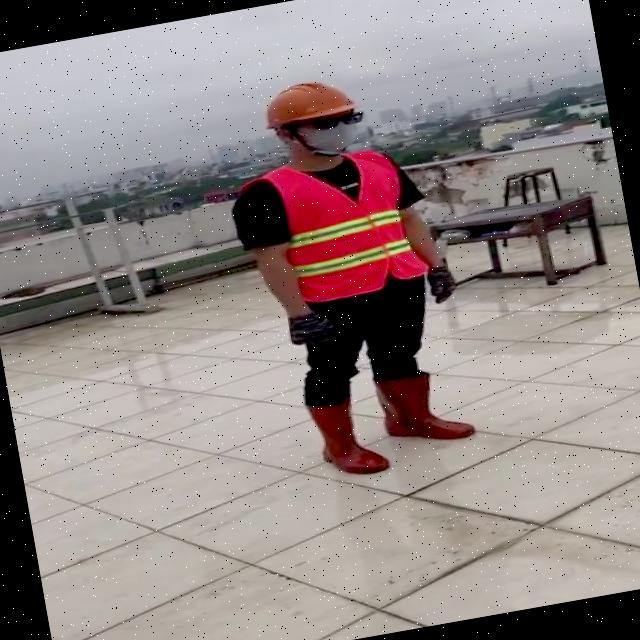boots: (290, 386, 396, 490), (368, 363, 481, 454)
